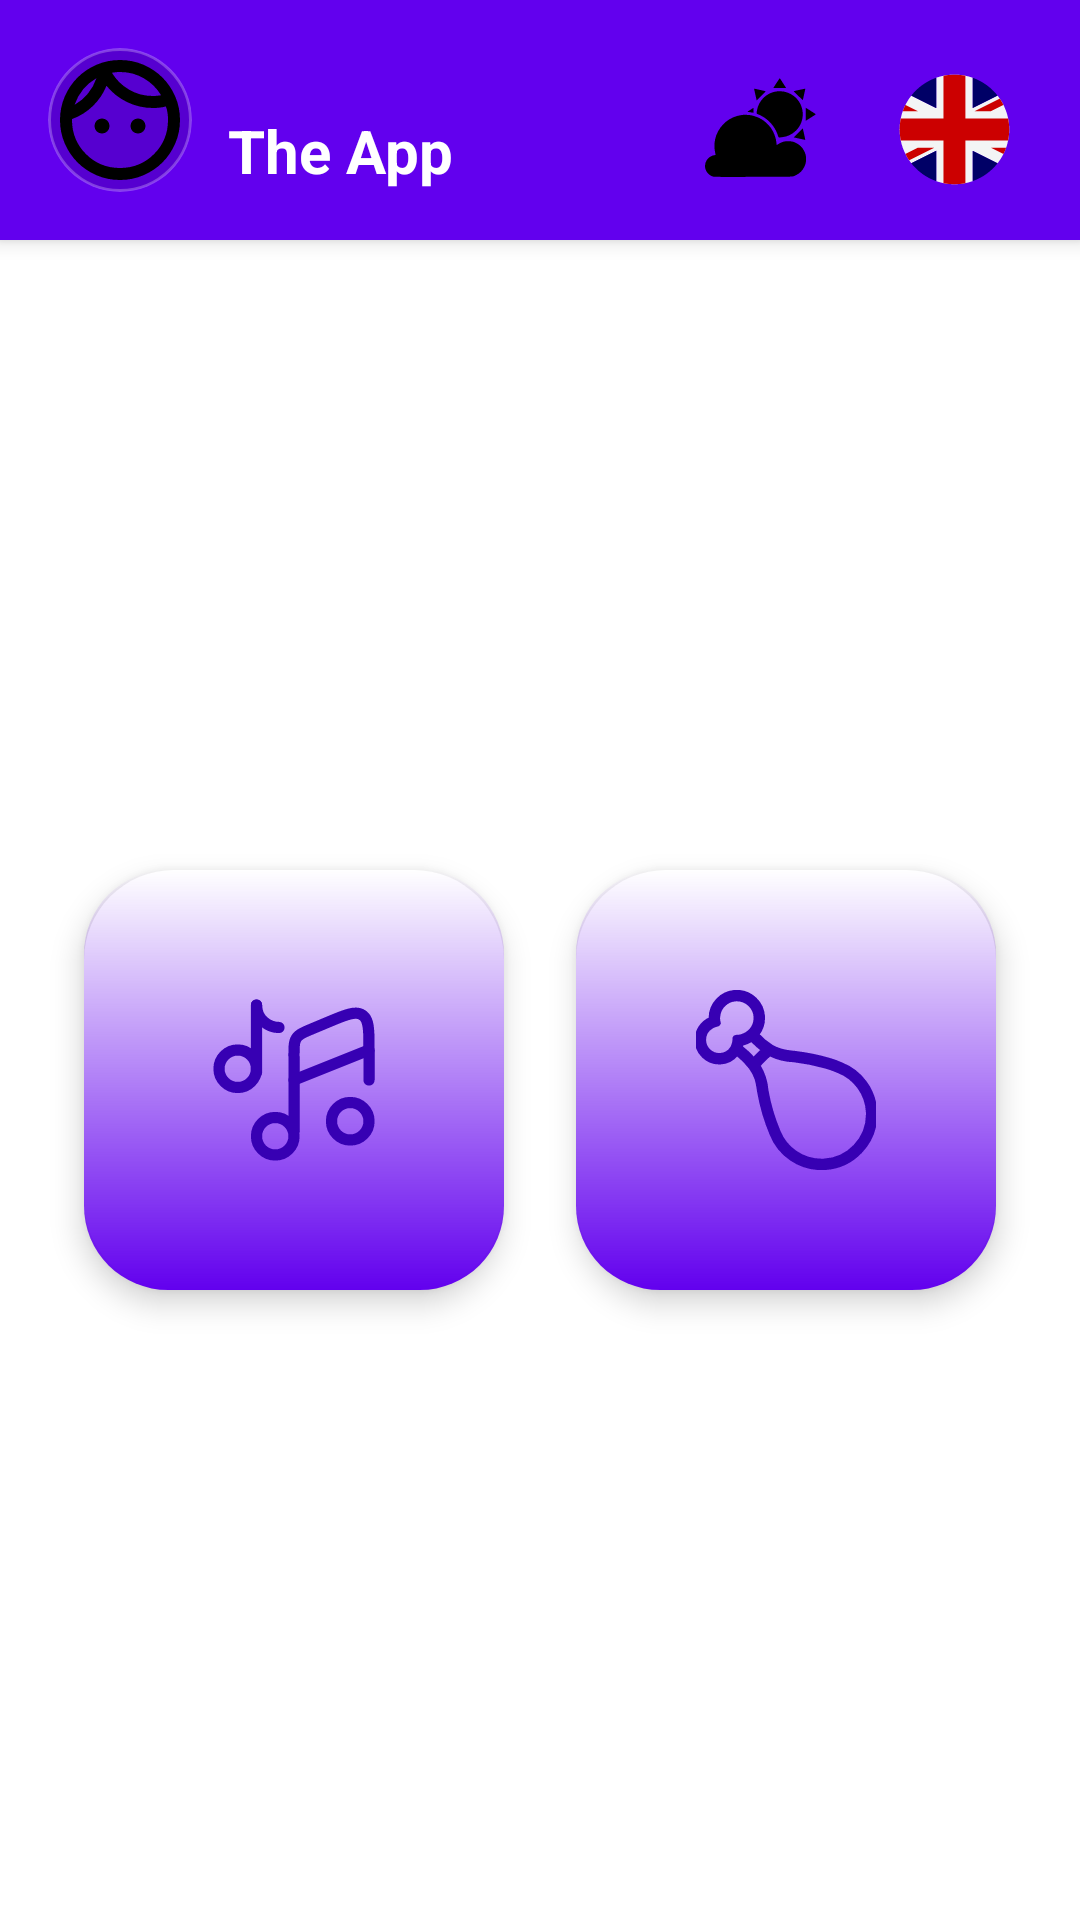

Icon click points for this 1080px×1920px phone screenshot, format (x=x, y=y):
Changer la langue: (x=954, y=129)
day: (x=760, y=127)
face: (x=120, y=120)
meat: (x=786, y=1080)
music: (x=294, y=1080)
